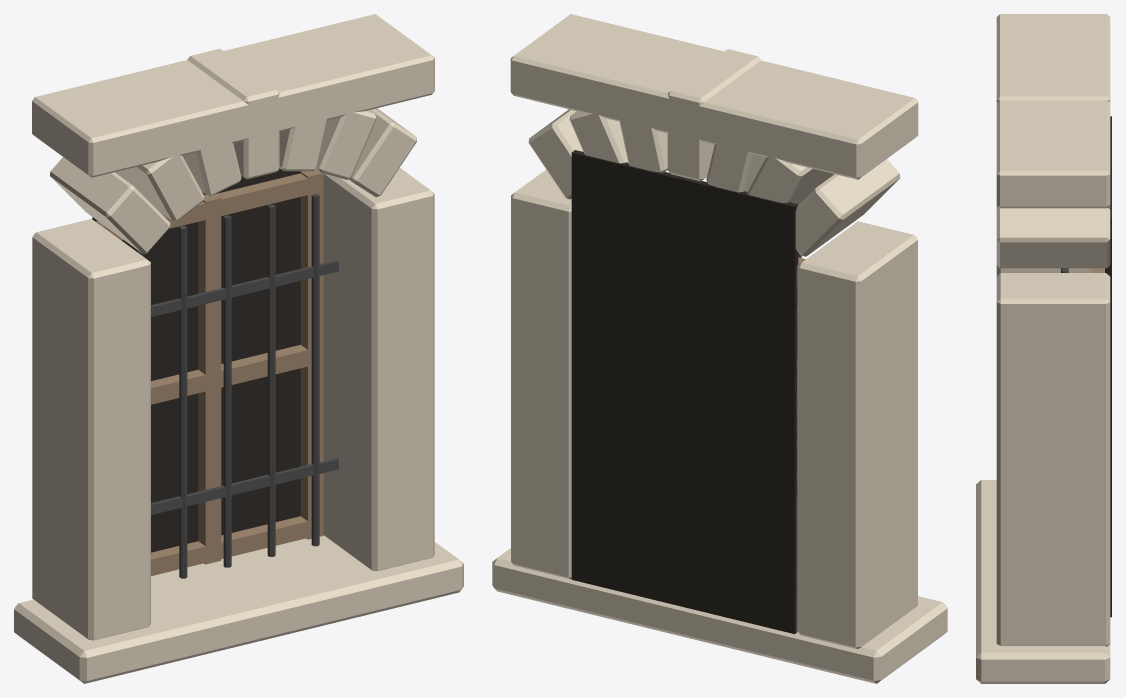
Rendered from pencere_kemerli.glb.
3 renders of one model, left to right at view 1: azimuth 30°, elevation 25°; view 2: azimuth 150°, elevation 25°; view 3: azimuth 270°, elevation 25°, orthographic. The views are drawn at different scales.
Parts seen in each view (by area): view 1: pencere_kemerli; view 2: pencere_kemerli; view 3: pencere_kemerli.
Boxes of the visible parts, box(x1,y1,x2,y2) form: pencere_kemerli: box(14, 14, 463, 683); pencere_kemerli: box(492, 14, 947, 683); pencere_kemerli: box(976, 14, 1111, 683).
Bounding box in the file's own units: 1.22 × 1.63 × 0.395.
